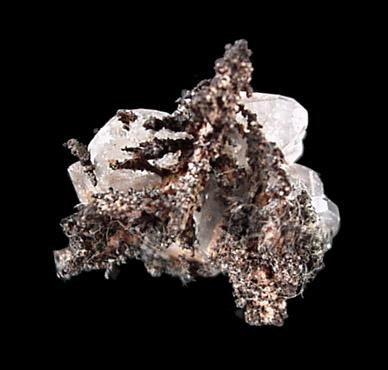copper: (55, 40, 330, 326), (63, 139, 95, 186)
